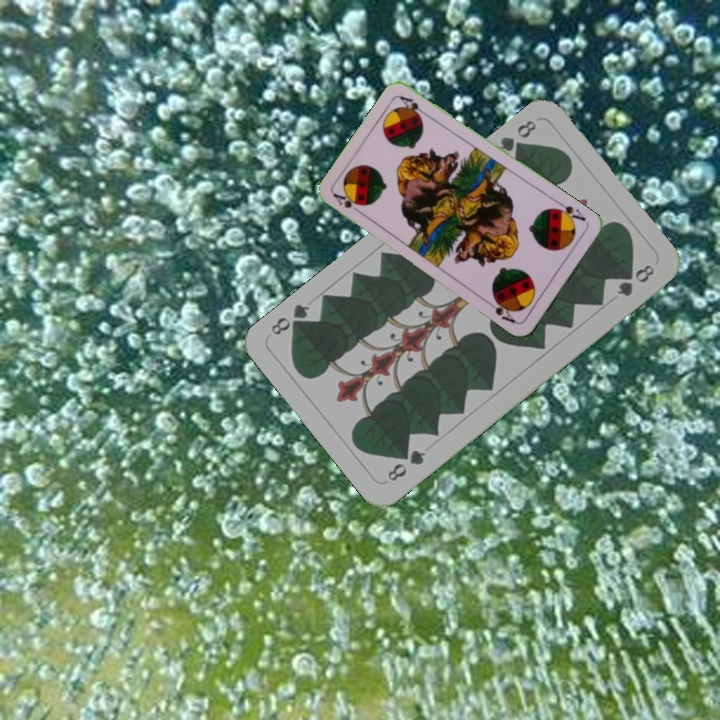G8: (494, 116, 539, 158), (383, 445, 428, 484)
SA: (550, 197, 588, 226), (329, 189, 366, 217)
